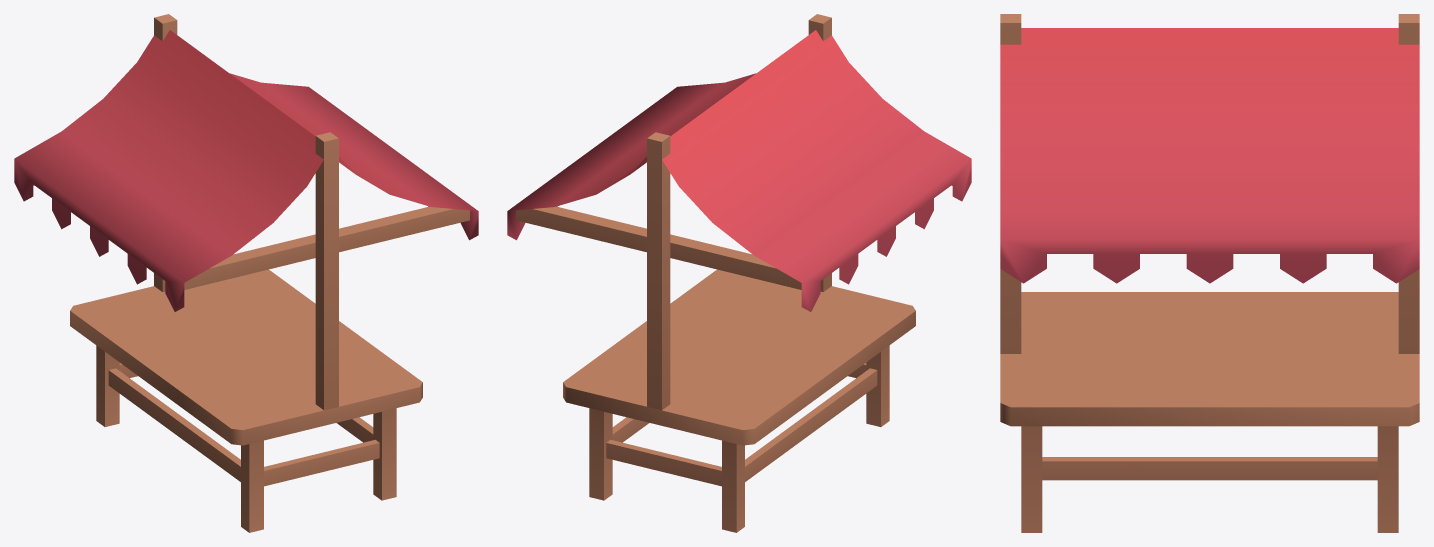
File: stall_2.fbx
The picture shows the model from 3 angles, left to right: view 1: azimuth 30°, elevation 25°; view 2: azimuth 150°, elevation 25°; view 3: azimuth 270°, elevation 25°; orthographic projection. The views are drawn at different scales.
Visible parts, largest first — view 1: stall_2; view 2: stall_2; view 3: stall_2.
Part boxes in pixels (x1=…): stall_2: x1=14, y1=14, x2=478, y2=532; stall_2: x1=507, y1=14, x2=971, y2=532; stall_2: x1=1000, y1=14, x2=1419, y2=532.
Size of the model in its own units: 1 by 1.24 by 1.
1 material, 1 textured.
